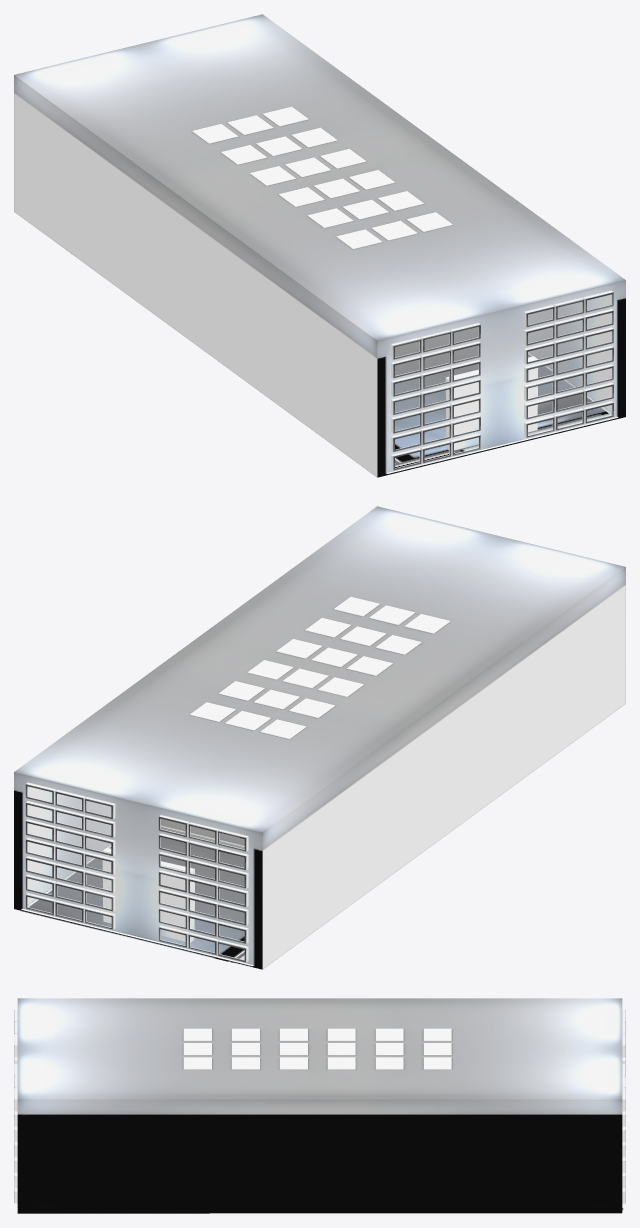
The picture shows the model from 3 angles, top to bottom: view 1: azimuth 30°, elevation 25°; view 2: azimuth 150°, elevation 25°; view 3: azimuth 270°, elevation 25°; orthographic projection. The views are drawn at different scales.
Parts seen in each view (by area): view 1: Raum, Lampen_oben, Floor; view 2: Raum, Lampen_oben, Floor; view 3: Raum, Lampen_oben.
Boxes of the visible parts, x1,y1,x2,y2 form: Raum: (14,14,625,477); Lampen_oben: (192,106,452,249); Floor: (395,327,610,467); Raum: (14,506,625,969); Lampen_oben: (189,596,450,739); Floor: (21,819,252,967); Raum: (14,998,625,1213); Lampen_oben: (183,1028,451,1069).
Size of the model in its own units: 7.66 by 4.05 by 19.61.
3 materials, 2 textured.
